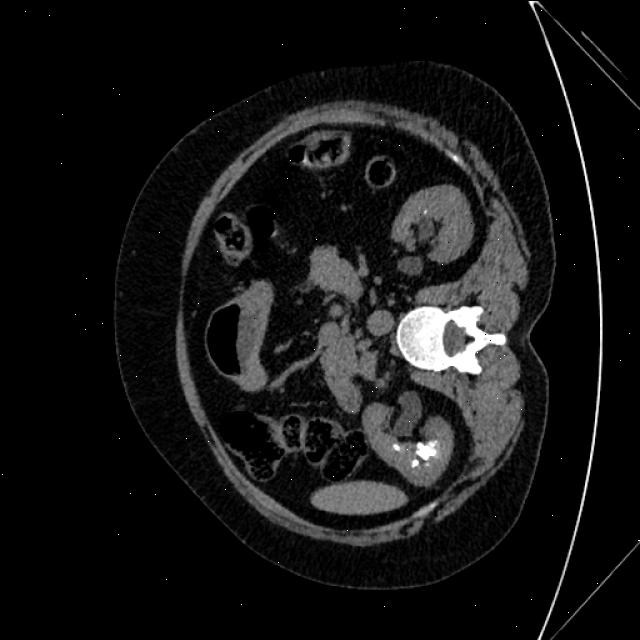kidneystone: (416, 440, 437, 454), (392, 441, 401, 451), (412, 457, 419, 466), (422, 209, 427, 215)
